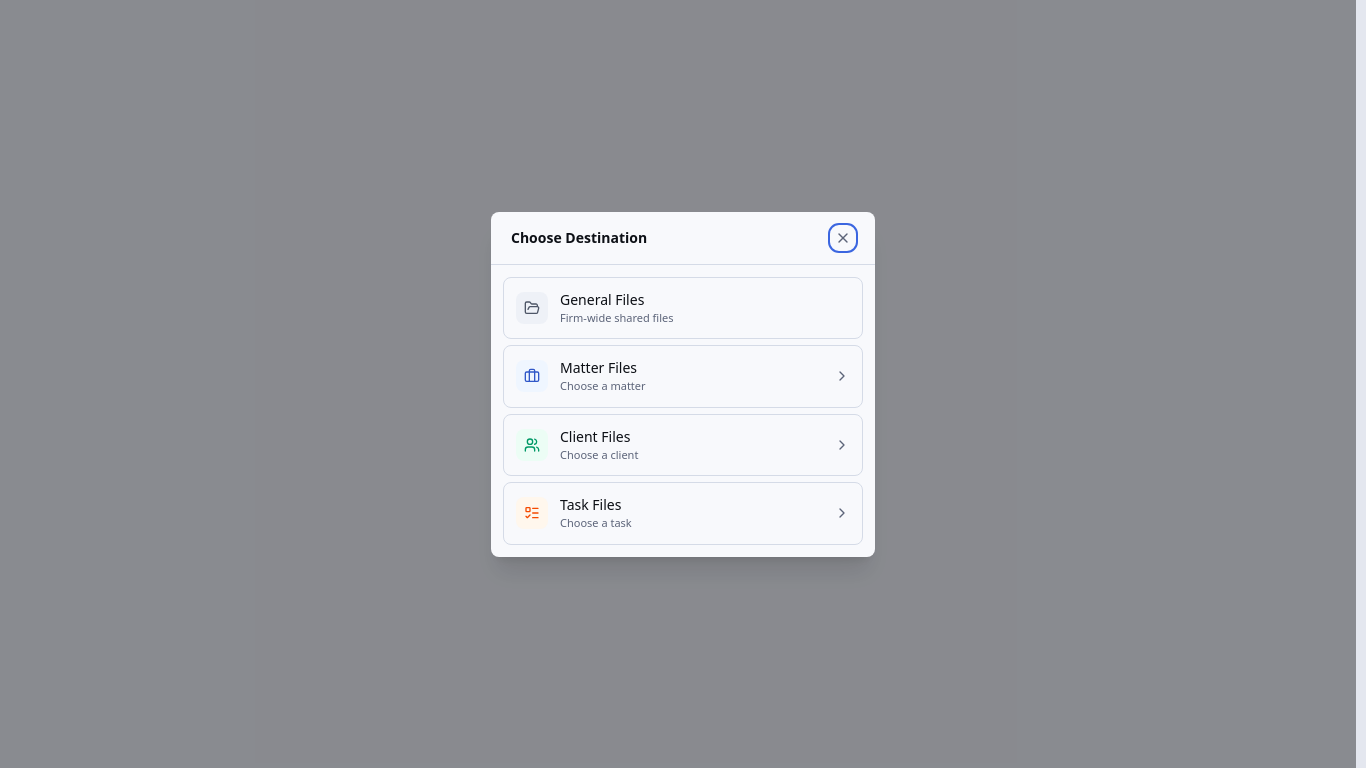
Test: DestinationPickerModal source list › drops the note when the load fails
This screenshot has width=1366, height=768.
Click the text "Matter Files". click: [599, 368]
box: [560,358,637,377]
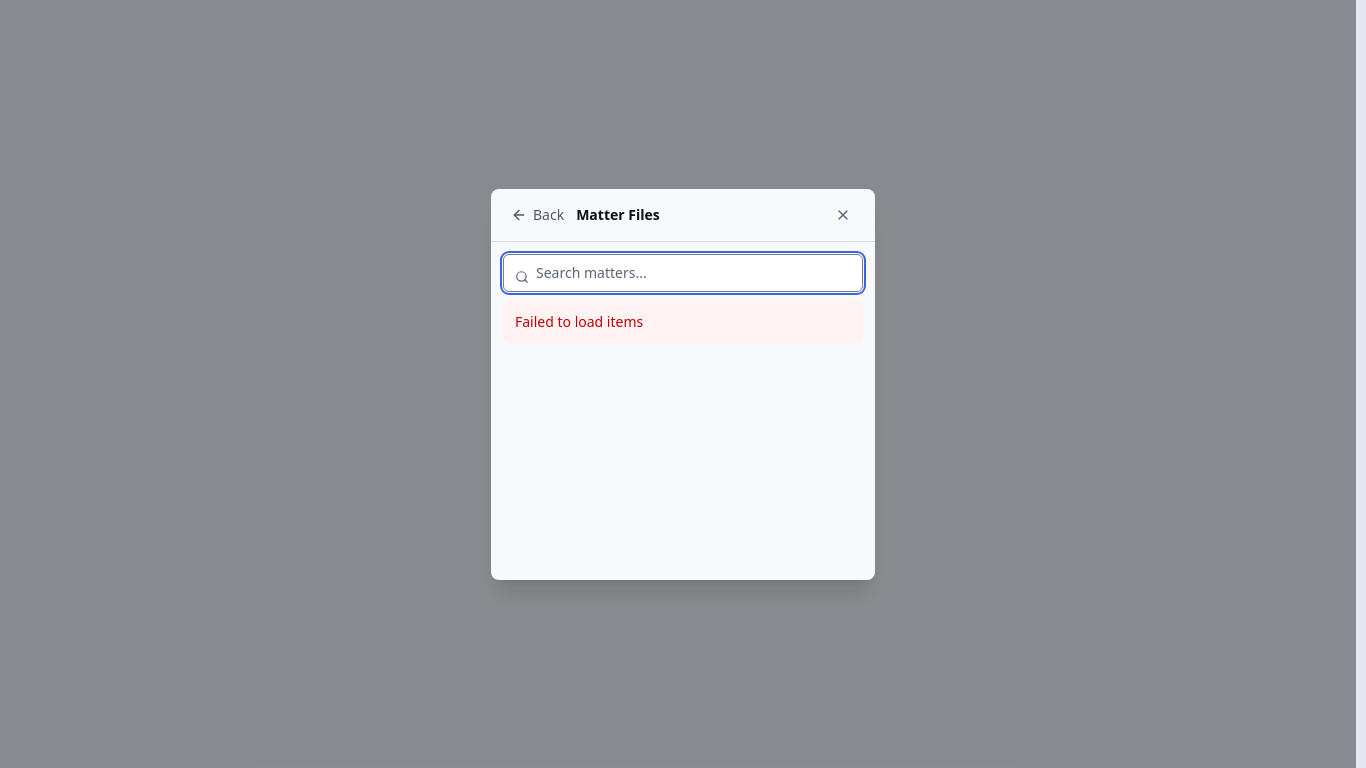
Result: the text "Failed to load items" is shown at [503,300,863,344]
